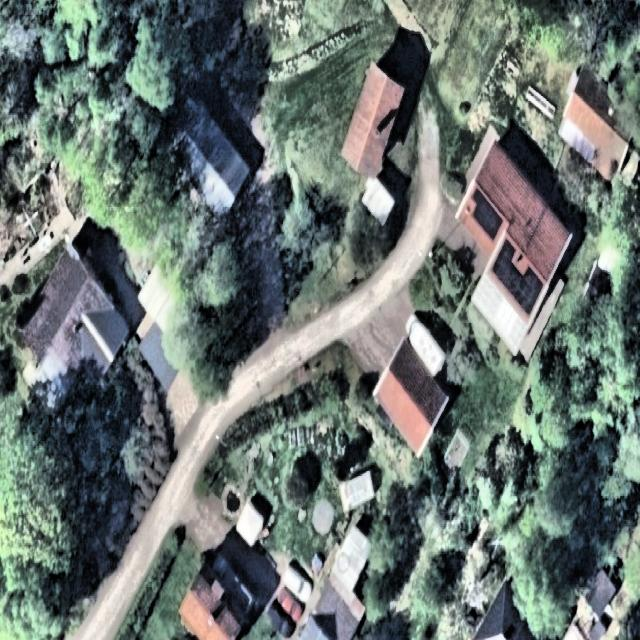roof_pv: (470, 180, 505, 243), (506, 264, 544, 318), (490, 233, 516, 286)
